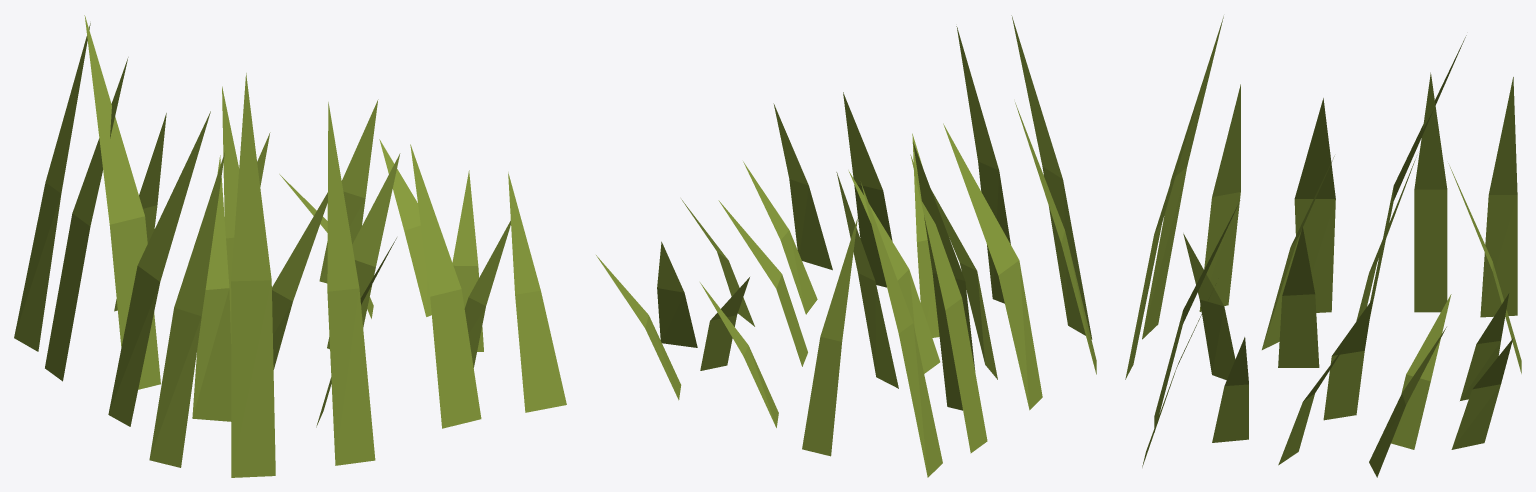
The picture shows the model from 3 angles, left to right: view 1: azimuth 30°, elevation 25°; view 2: azimuth 150°, elevation 25°; view 3: azimuth 270°, elevation 25°; orthographic projection. The views are drawn at different scales.
Bounding box in the file's own units: 99 × 89 × 96.
1 material, 1 textured.
